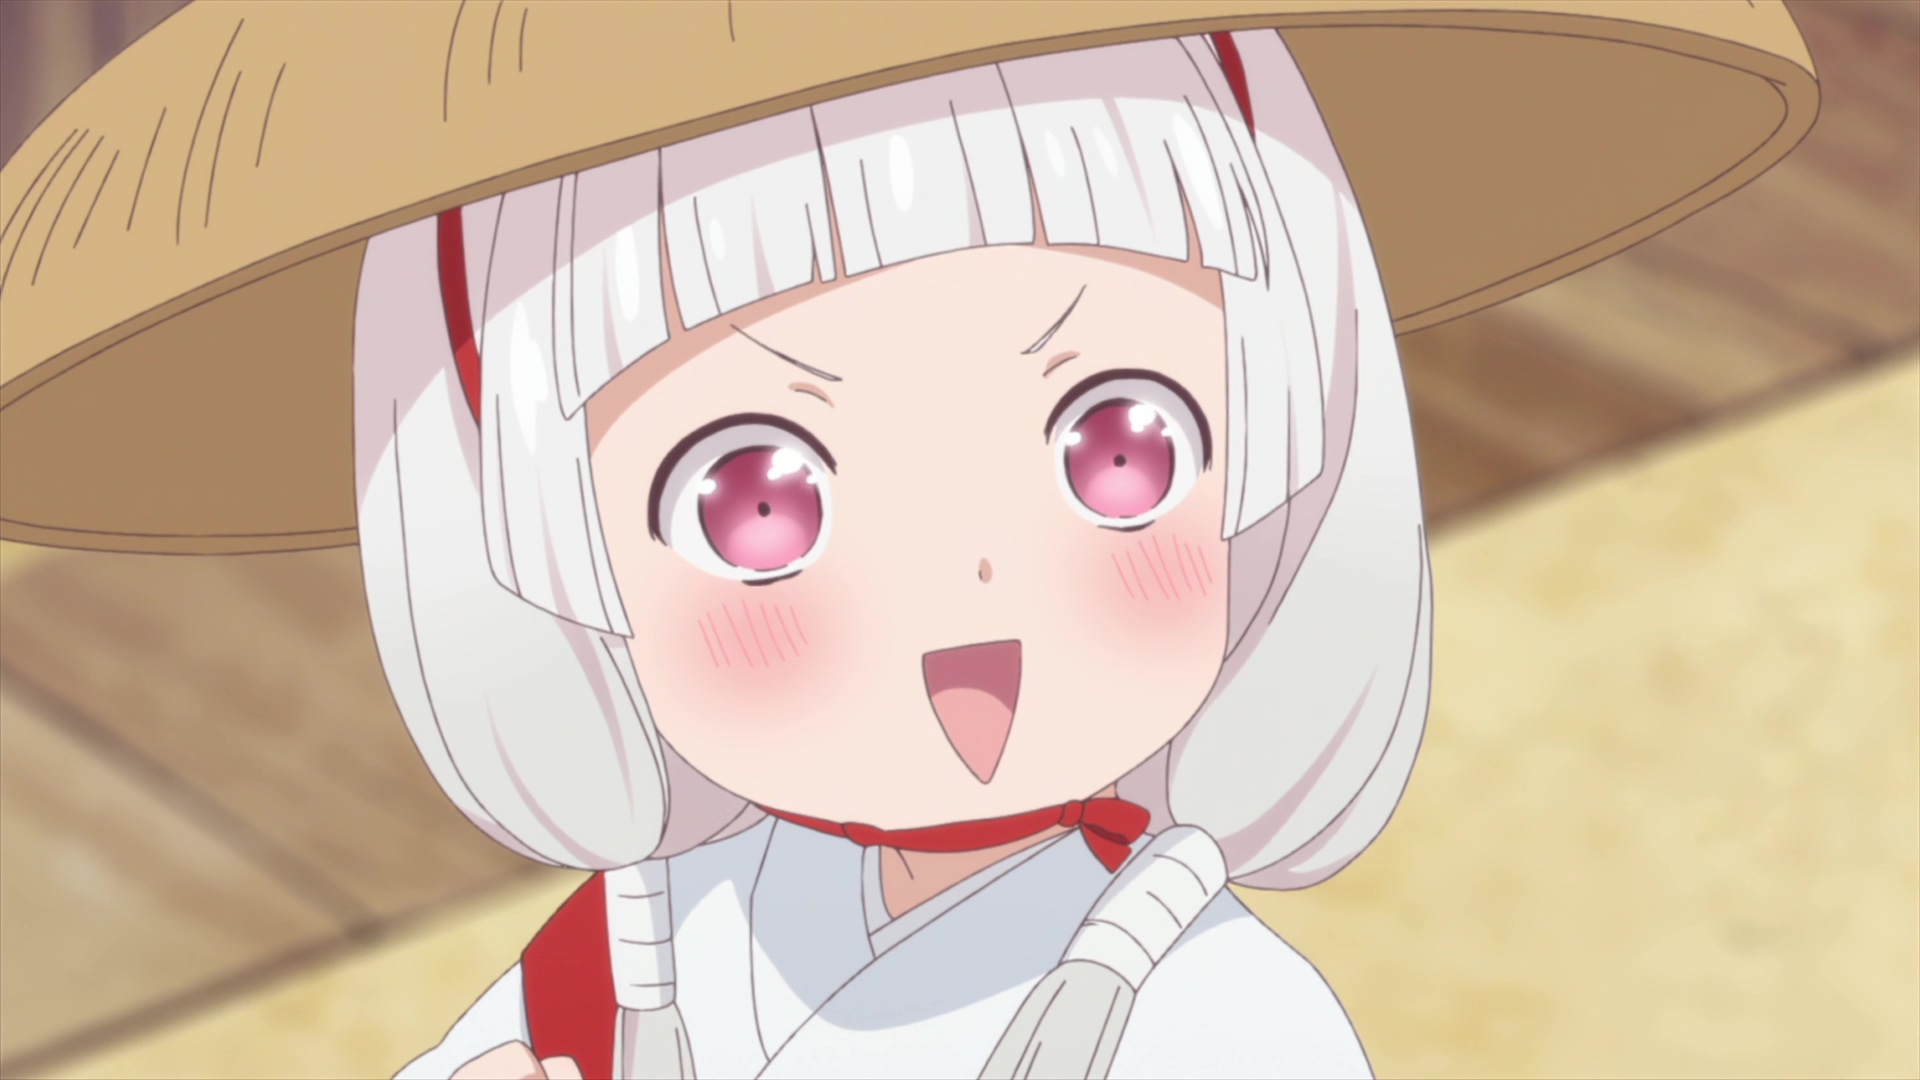其他: (1, 1, 1822, 1080)
